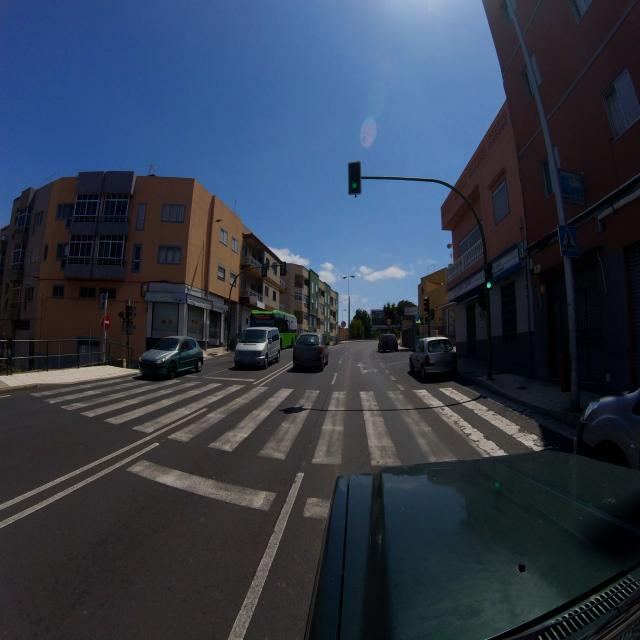car: (574, 362, 640, 468), (137, 334, 204, 380), (407, 335, 458, 382), (233, 324, 281, 370), (292, 331, 326, 373), (378, 332, 398, 352)
